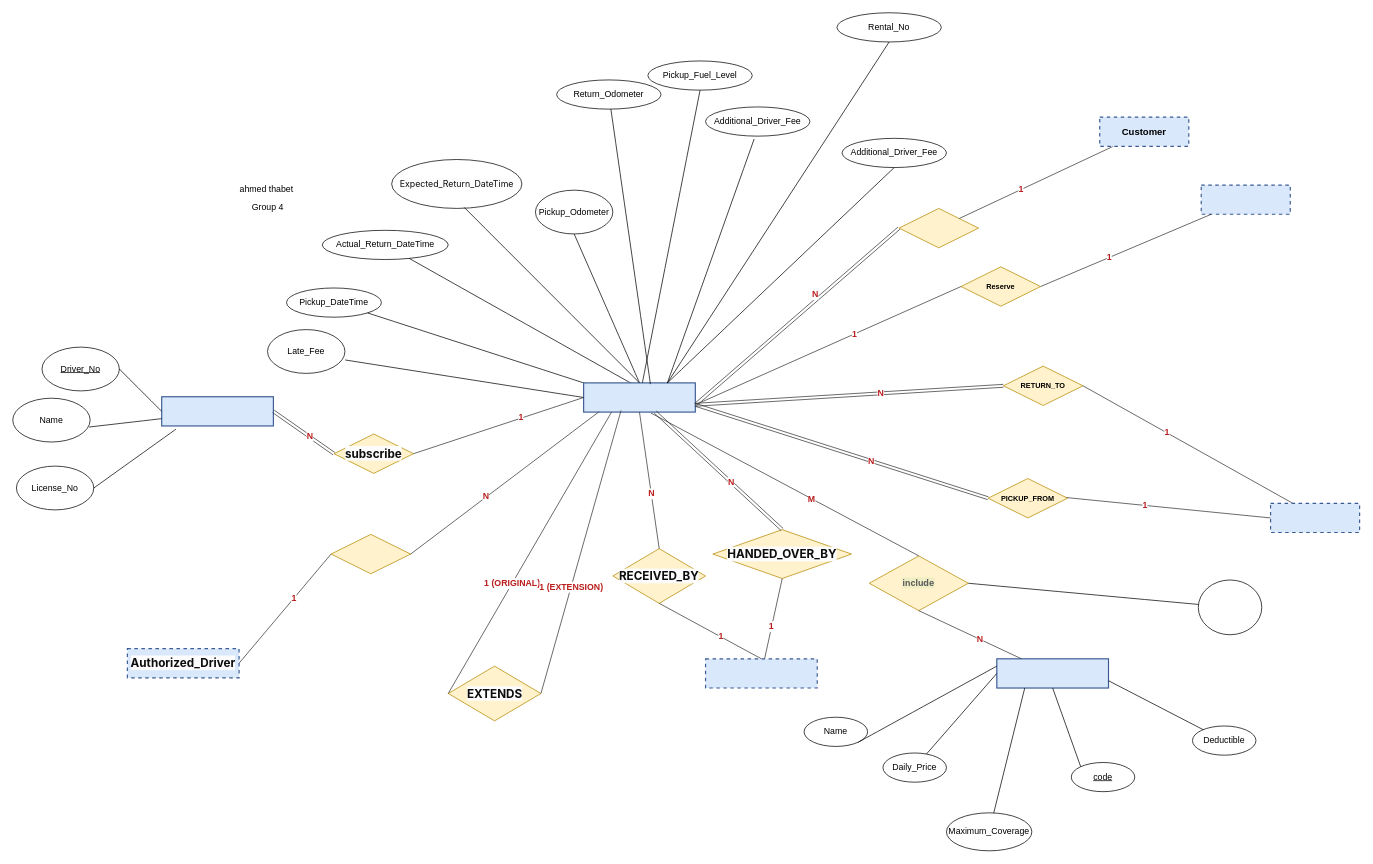
Image size: 1373x864. Some labels were removed from this diagram. The shapes that lost their labels are listed below. From the top down, each one's box as (x1, y1, x2, y2) in pixels, then its label:
(1200, 184, 1290, 214): Reservation
(898, 208, 979, 248): Make
(161, 396, 274, 426): Additaion_Driver
(583, 382, 696, 412): Rental
(1270, 502, 1360, 533): Branch
(330, 534, 411, 574): can_drive
(1198, 579, 1262, 635): Price_Charged
(705, 658, 817, 688): Employee
(996, 658, 1109, 688): package
